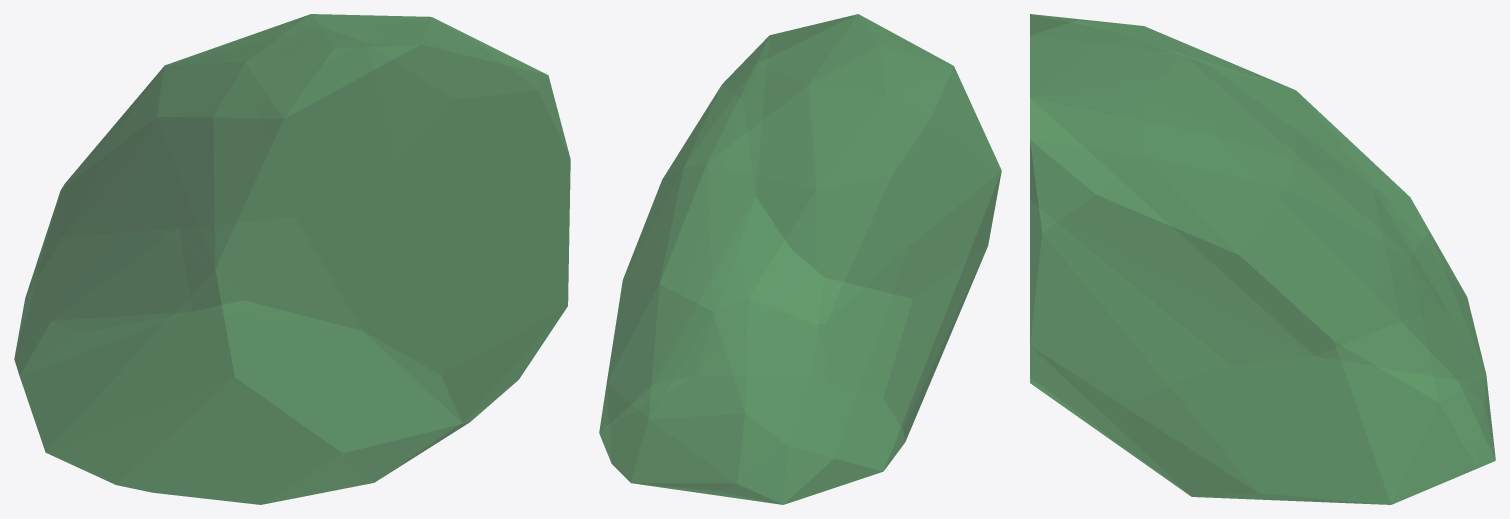
3 renders of one model, left to right at view 1: azimuth 30°, elevation 25°; view 2: azimuth 150°, elevation 25°; view 3: azimuth 270°, elevation 25°, orthographic. The views are drawn at different scales.
Parts seen in each view (by area): view 1: Shape_IndexedFaceSet.003_Shape_IndexedFaceSet.8736; view 2: Shape_IndexedFaceSet.003_Shape_IndexedFaceSet.8736; view 3: Shape_IndexedFaceSet.003_Shape_IndexedFaceSet.8736.
Boxes of the visible parts, x1,y1,x2,y2 form: Shape_IndexedFaceSet.003_Shape_IndexedFaceSet.8736: (14,14,570,504); Shape_IndexedFaceSet.003_Shape_IndexedFaceSet.8736: (599,14,1001,504); Shape_IndexedFaceSet.003_Shape_IndexedFaceSet.8736: (1030,14,1495,504).
Bounding box in the file's own units: 0.1056 × 0.1342 × 0.1399.
